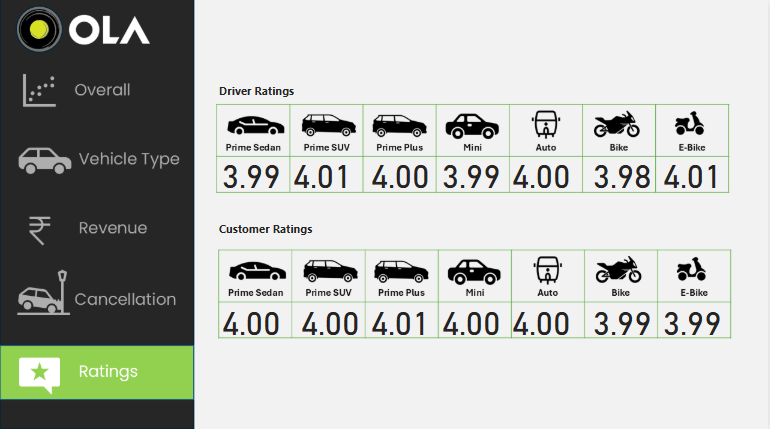

The dashboard page shown, as its layout file describes it:
{"tool":"powerbi","page":{"name":"Ratings","canvas":[1280,720],"ordinal":4},"visuals":[{"type":"actionButton","box":[0,112.3,325.4,92.2],"z":0},{"type":"actionButton","box":[0,227.5,325.4,92.2],"z":1000},{"type":"actionButton","box":[0,341.3,325.4,92.2],"z":2000},{"type":"actionButton","box":[0,443.5,325.4,92.2],"z":3000},{"type":"card","fields":{"Values":["Avg(July.Driver_Ratings)"]},"box":[360.7,258.3,117.4,62.1],"z":4000},{"type":"card","fields":{"Values":["Avg(July.Driver_Ratings)"]},"box":[478.1,258.3,117.4,62.1],"z":5000},{"type":"card","fields":{"Values":["Avg(July.Driver_Ratings)"]},"box":[609,258.3,117.4,62.1],"z":6000},{"type":"card","fields":{"Values":["Avg(July.Driver_Ratings)"]},"box":[726.4,258.3,117.4,62.1],"z":7000},{"type":"card","fields":{"Values":["Avg(July.Driver_Ratings)"]},"box":[843.8,258.3,117.4,62.1],"z":8000},{"type":"card","fields":{"Values":["Avg(July.Driver_Ratings)"]},"box":[978,258.3,117.4,62.1],"z":9000},{"type":"card","fields":{"Values":["Avg(July.Driver_Ratings)"]},"box":[1095.5,258.3,117.4,62.1],"z":10000},{"type":"card","fields":{"Values":["Avg(July.Customer_Rating)"]},"box":[360.7,503.3,117.4,62.1],"z":11000},{"type":"card","fields":{"Values":["Avg(July.Customer_Rating)"]},"box":[491.5,503.3,117.4,62.1],"z":12000},{"type":"card","fields":{"Values":["Avg(July.Customer_Rating)"]},"box":[609,503.3,117.4,62.1],"z":13000},{"type":"card","fields":{"Values":["Avg(July.Customer_Rating)"]},"box":[726.4,503.3,117.4,62.1],"z":14000},{"type":"card","fields":{"Values":["Avg(July.Customer_Rating)"]},"box":[843.8,503.3,117.4,62.1],"z":15000},{"type":"card","fields":{"Values":["Avg(July.Customer_Rating)"]},"box":[978,503.3,117.4,62.1],"z":16000},{"type":"card","fields":{"Values":["Avg(July.Customer_Rating)"]},"box":[1095.5,503.3,117.4,62.1],"z":17000},{"type":"textbox","box":[360.7,134.2,169.4,45.3],"z":18000},{"type":"textbox","box":[360.7,365.7,176.1,43.6],"z":19000}]}

Visuals, with their boxes on the page's 1280x720 design canvas (x1, y1, x2, y2). These are canvas units, not pixel positions in the 770x429 screenshot, which may show the page scaled, cropped or inside an application window:
actionButton: crop(0, 112, 325, 204)
actionButton: crop(0, 228, 325, 320)
actionButton: crop(0, 341, 325, 434)
actionButton: crop(0, 444, 325, 536)
card - Avg(July.Driver_Ratings): crop(361, 258, 478, 320)
card - Avg(July.Driver_Ratings): crop(478, 258, 596, 320)
card - Avg(July.Driver_Ratings): crop(609, 258, 726, 320)
card - Avg(July.Driver_Ratings): crop(726, 258, 844, 320)
card - Avg(July.Driver_Ratings): crop(844, 258, 961, 320)
card - Avg(July.Driver_Ratings): crop(978, 258, 1095, 320)
card - Avg(July.Driver_Ratings): crop(1096, 258, 1213, 320)
card - Avg(July.Customer_Rating): crop(361, 503, 478, 565)
card - Avg(July.Customer_Rating): crop(492, 503, 609, 565)
card - Avg(July.Customer_Rating): crop(609, 503, 726, 565)
card - Avg(July.Customer_Rating): crop(726, 503, 844, 565)
card - Avg(July.Customer_Rating): crop(844, 503, 961, 565)
card - Avg(July.Customer_Rating): crop(978, 503, 1095, 565)
card - Avg(July.Customer_Rating): crop(1096, 503, 1213, 565)
textbox: crop(361, 134, 530, 180)
textbox: crop(361, 366, 537, 409)
